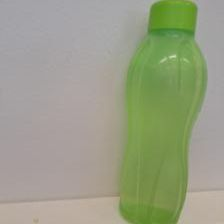bottle: (116, 0, 209, 224)
